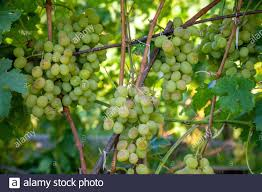grapes: (13, 29, 106, 125), (108, 79, 160, 177), (157, 16, 203, 113), (209, 14, 262, 82)
